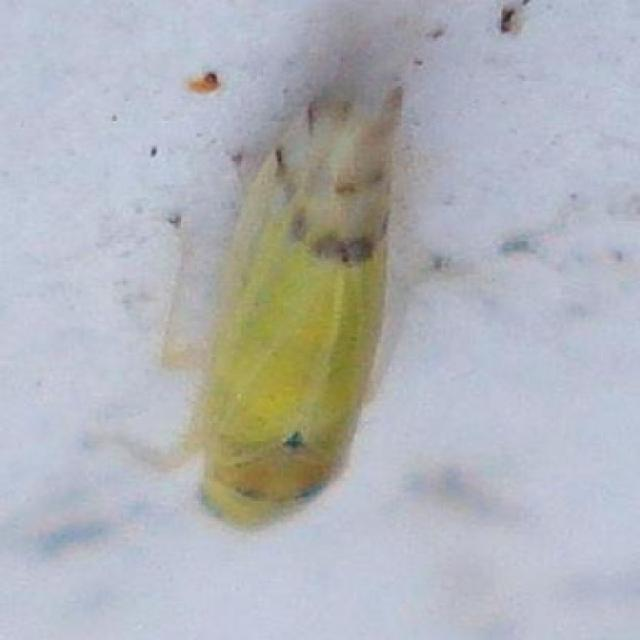green-leafhopper: (121, 94, 392, 531)
